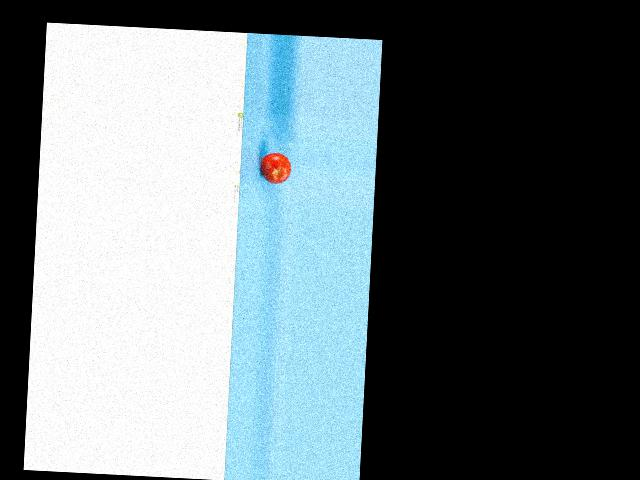tomato: (260, 152, 291, 185)
